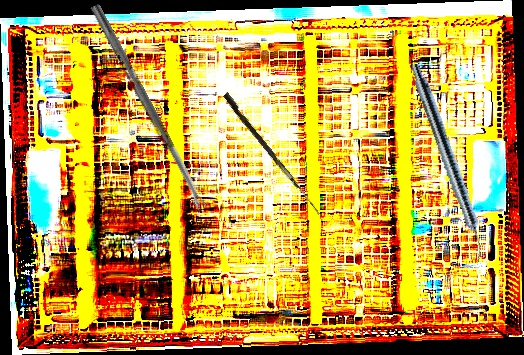Handpiece: (404, 61, 493, 264)
Hook Surgical: (220, 92, 326, 215)
Surgical Spoon: (89, 3, 207, 212)
